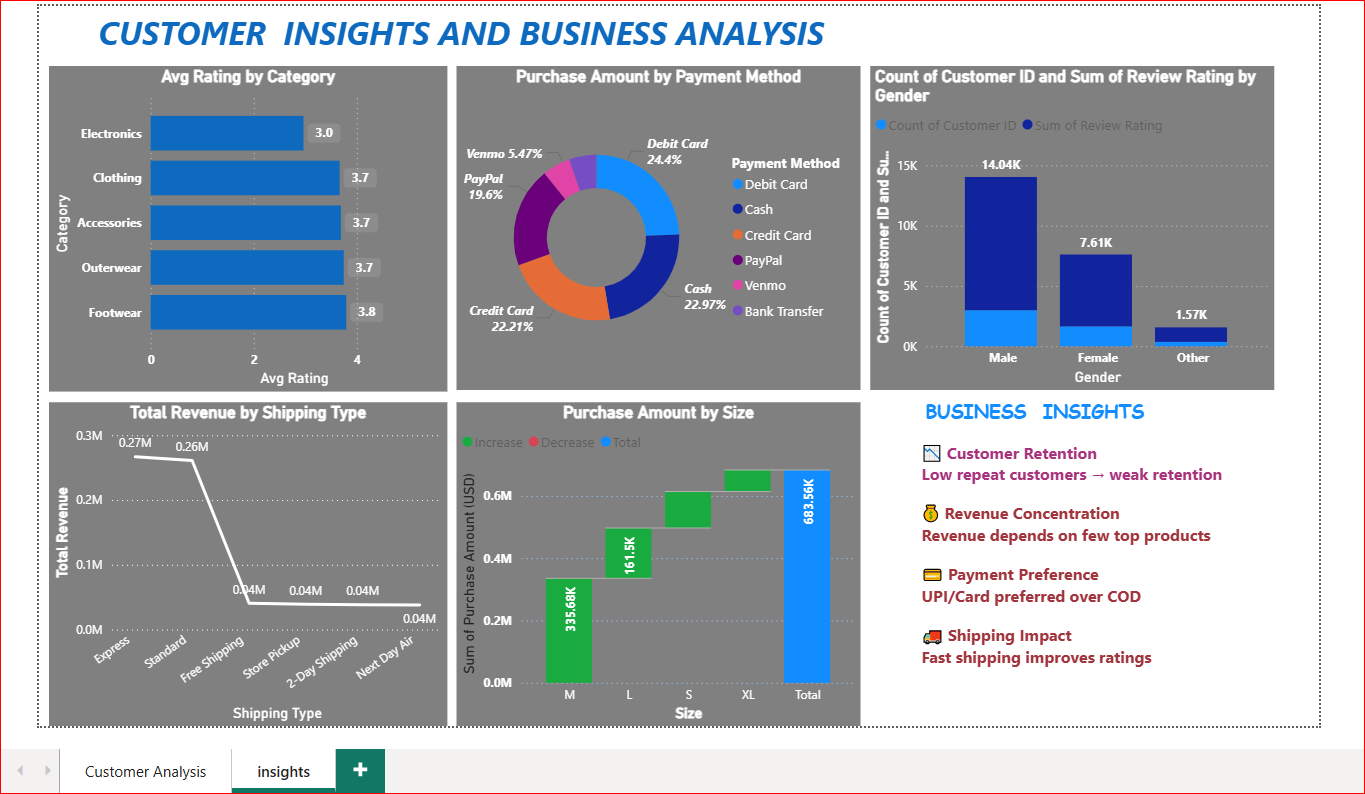

The dashboard page shown, as its layout file describes it:
{"tool":"powerbi","page":{"name":"insights","canvas":[1280,720],"ordinal":1},"visuals":[{"type":"textbox","box":[10,0,824.3,60],"z":0},{"type":"barChart","fields":{"Category":["Sheet1.Category"],"Y":["Sheet1.Avg Rating"]},"box":[10,60,398.6,325.7],"z":1000},{"type":"donutChart","title":" Purchase Amount by Payment Method","fields":{"Category":["Sheet1.Payment Method"],"Y":["Sum(Sheet1.Purchase Amount (USD))"]},"box":[417.1,60,404.3,324.3],"z":2000},{"type":"lineChart","fields":{"Y":["Sheet1.Total Revenue"],"Category":["Sheet1.Shipping Type"]},"box":[10,395.7,398.6,324.3],"z":3000},{"type":"waterfallChart","title":"Purchase Amount  by Size","fields":{"Category":["Sheet1.Size"],"Y":["Sum(Sheet1.Purchase Amount (USD))"]},"box":[417.1,395.7,404.3,324.3],"z":4000},{"type":"columnChart","fields":{"Y":["CountNonNull(Sheet1.Customer ID)","Sum(Sheet1.Review Rating)"],"Category":["Sheet1.Gender"]},"box":[831,60,404,324],"z":5000},{"type":"textbox","box":[877.2,386.3,358.4,332.8],"z":6000}]}

Visuals, with their boxes in screenshot pixels (x1, y1, x2, y2):
textbox: 39:0:875:61
barChart - Sheet1.Category x Sheet1.Avg Rating: 39:61:443:391
" Purchase Amount by Payment Method" donutChart: 452:61:862:390
lineChart - Sheet1.Total Revenue x Sheet1.Shipping Type: 39:401:443:730
"Purchase Amount  by Size" waterfallChart: 452:401:862:730
columnChart - CountNonNull(Sheet1.Customer ID) x Sum(Sheet1.Review Rating): 871:61:1281:390
textbox: 918:392:1282:729
